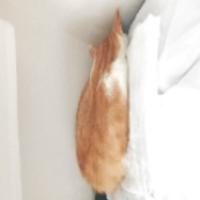asleep: (74, 4, 129, 193)
